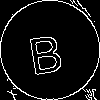B: (25, 25, 66, 76)
